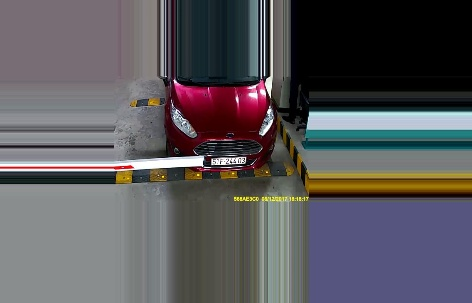plate: (208, 154, 248, 166)
